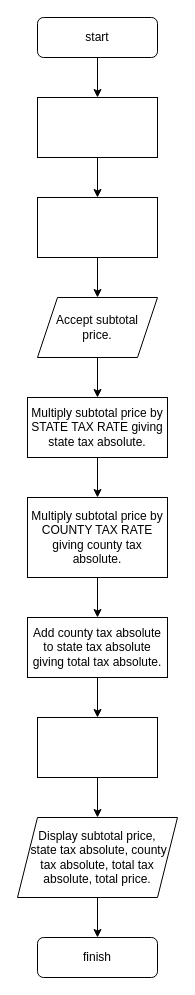
Image size: 195x995. Some labels were removed from this diagram. Each missing label, with the centre of its shape:
"Add total tax absolute to subtotal price giving total price." belongs at (97,747).
"COUNTY TAX RATE := 2.5%" belongs at (97,227).
"STATE TAX RATE := 5%" belongs at (97,127).
